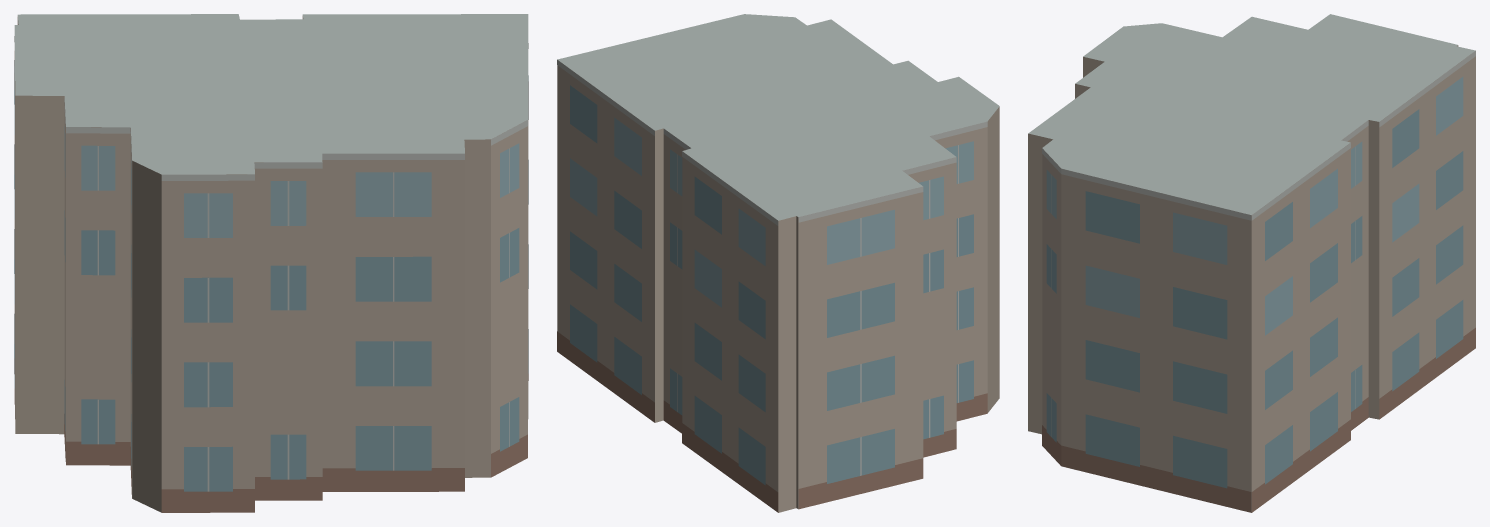
File: survey-upis-32744362.glb
The picture shows the model from 3 angles, left to right: view 1: azimuth 30°, elevation 25°; view 2: azimuth 150°, elevation 25°; view 3: azimuth 270°, elevation 25°; orthographic projection. The views are drawn at different scales.
Parts seen in each view (by area): view 1: survey-upis-32744362.tmp; view 2: survey-upis-32744362.tmp; view 3: survey-upis-32744362.tmp.
Part boxes in pixels (bbox=[...]): survey-upis-32744362.tmp: bbox=[14, 14, 528, 512]; survey-upis-32744362.tmp: bbox=[557, 14, 999, 512]; survey-upis-32744362.tmp: bbox=[1028, 14, 1475, 512].
Bounding box in the file's own units: 18.78 × 12.95 × 17.66.
